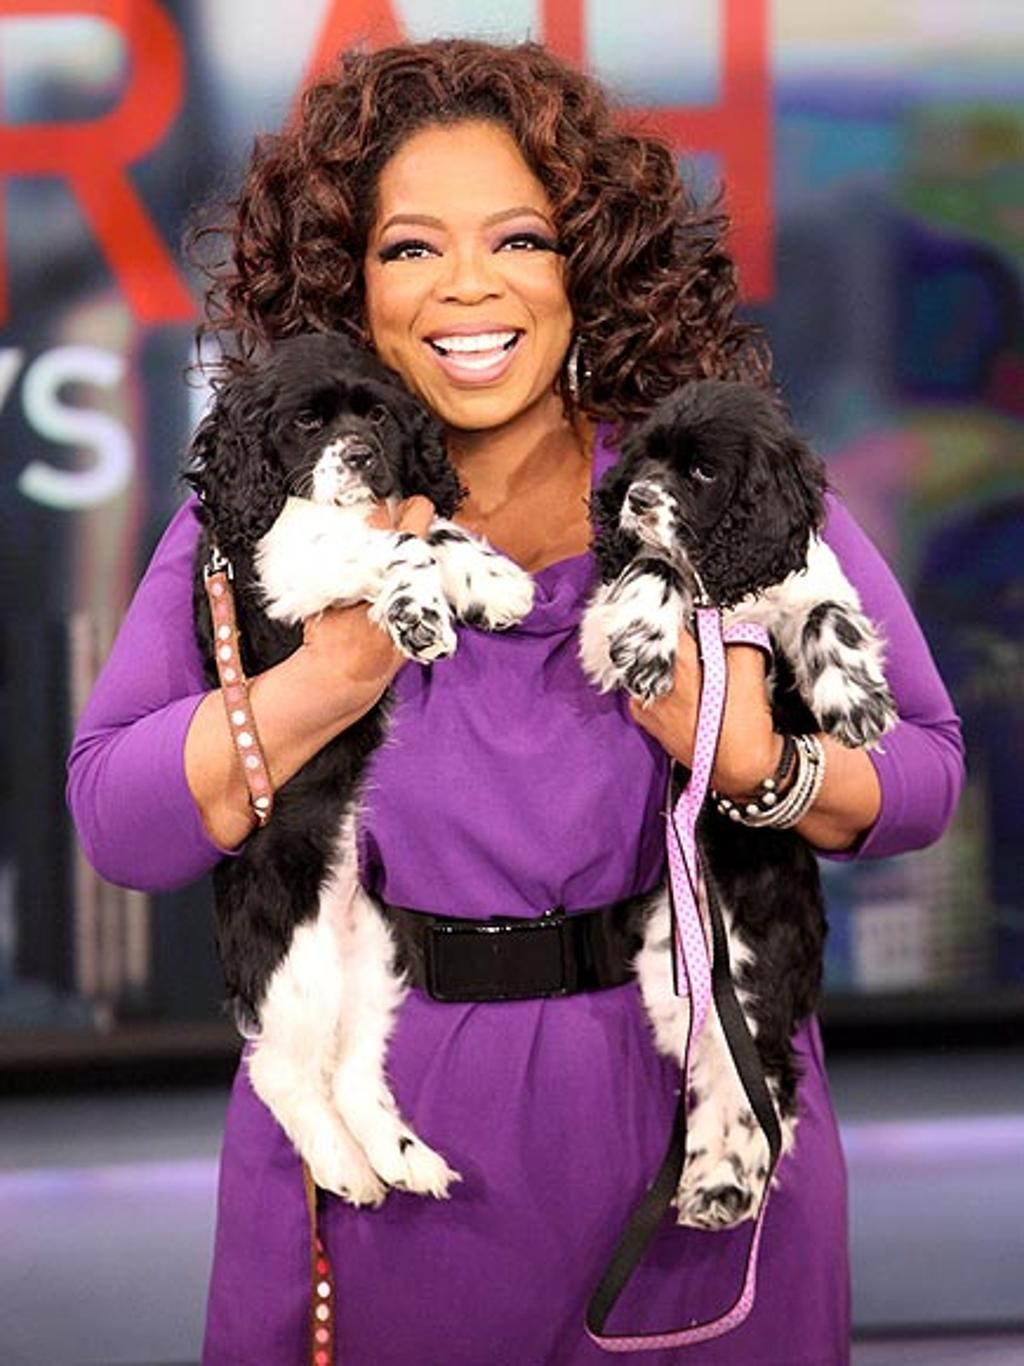face: (369, 124, 577, 431)
